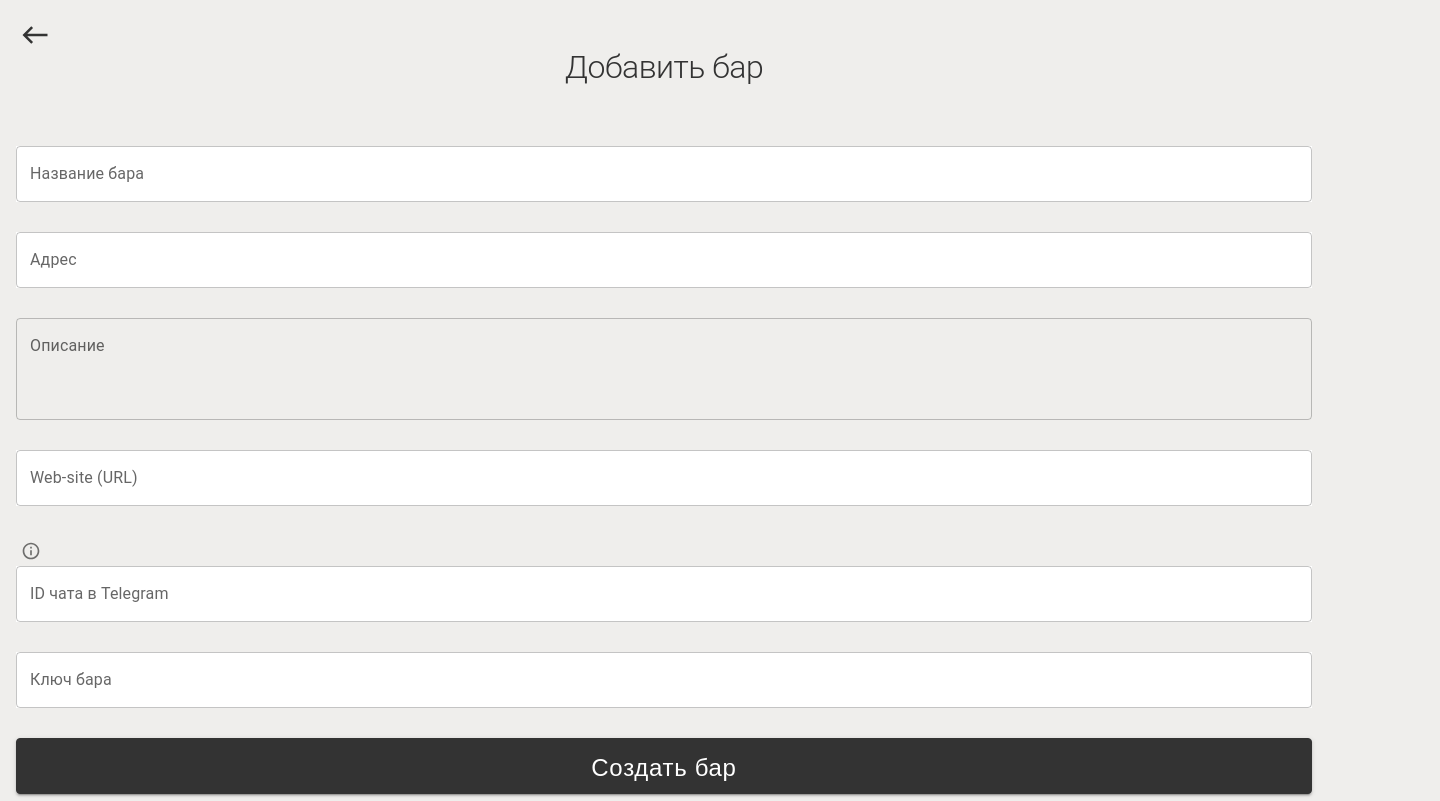
Scenario: AdminRegisterBarForm › успешный POST и сообщение ok
Type "Бар 1" into the field labelled "Название бара" at (664, 174), box [16,146,1312,202]
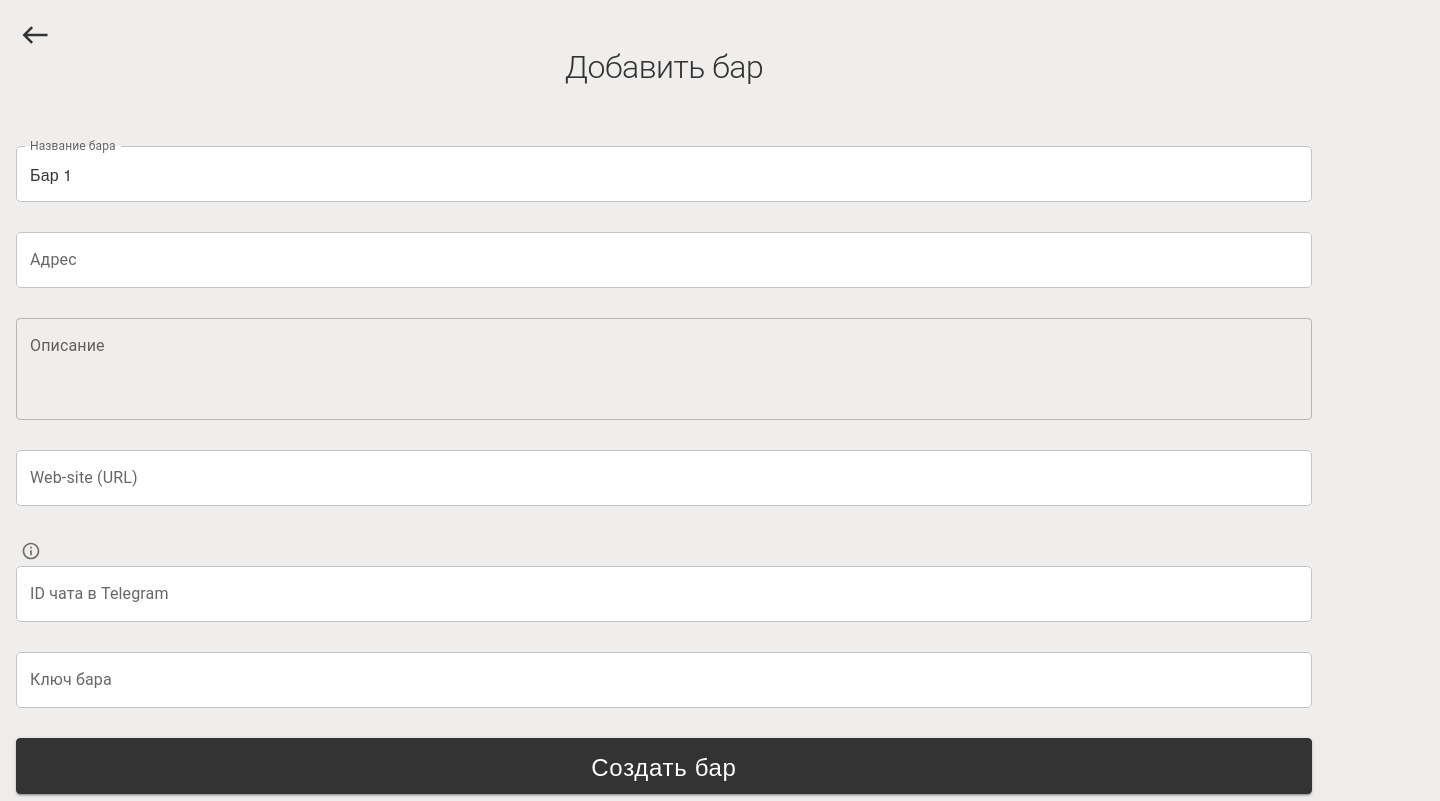
Type "key123" into the password field labelled "Ключ бара" at (664, 680), box [16,652,1312,708]
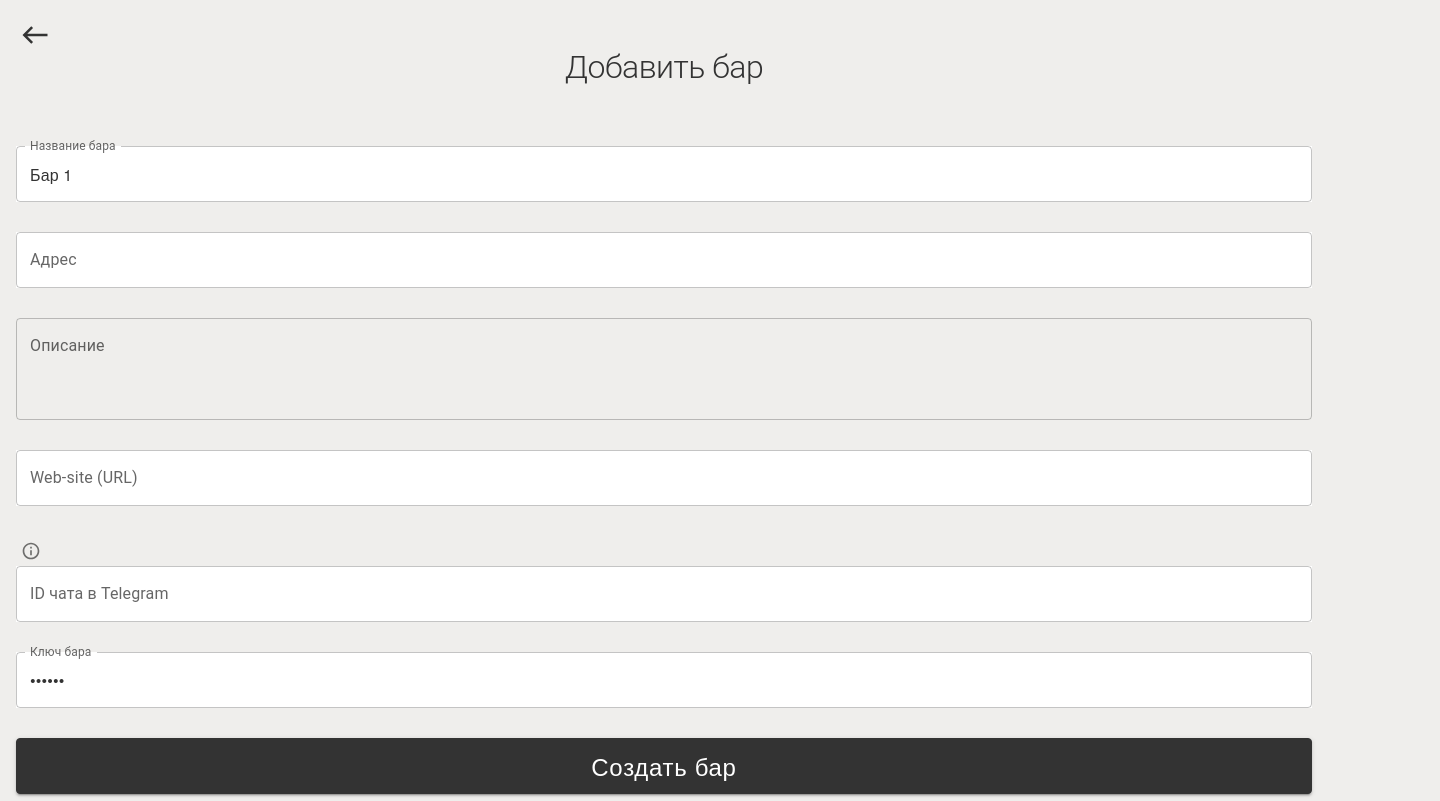
Type "777" into the field labelled "ID чата в Telegram" at (664, 594), box [16,566,1312,622]
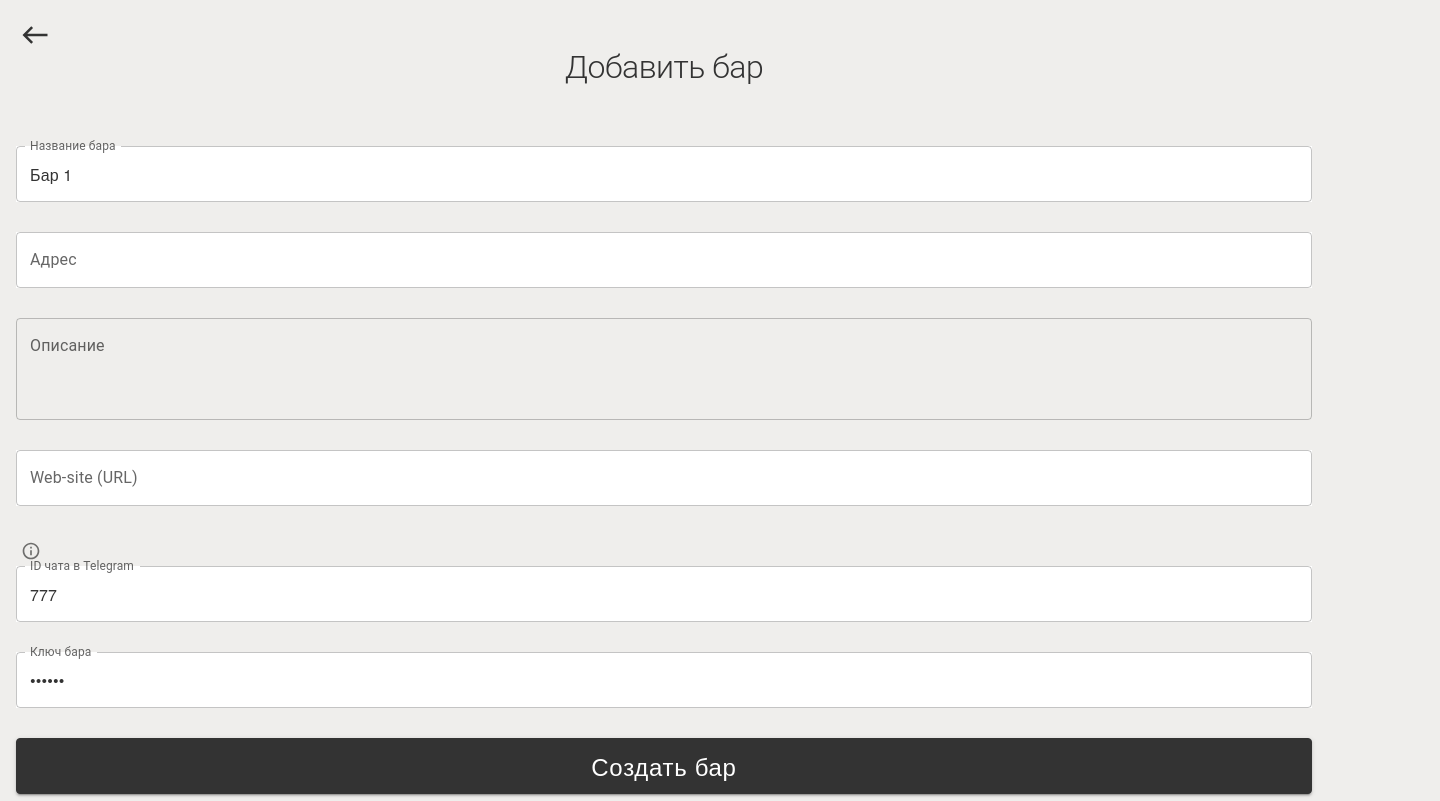
Click the button "Создать бар" at (664, 766), box [16,738,1312,794]
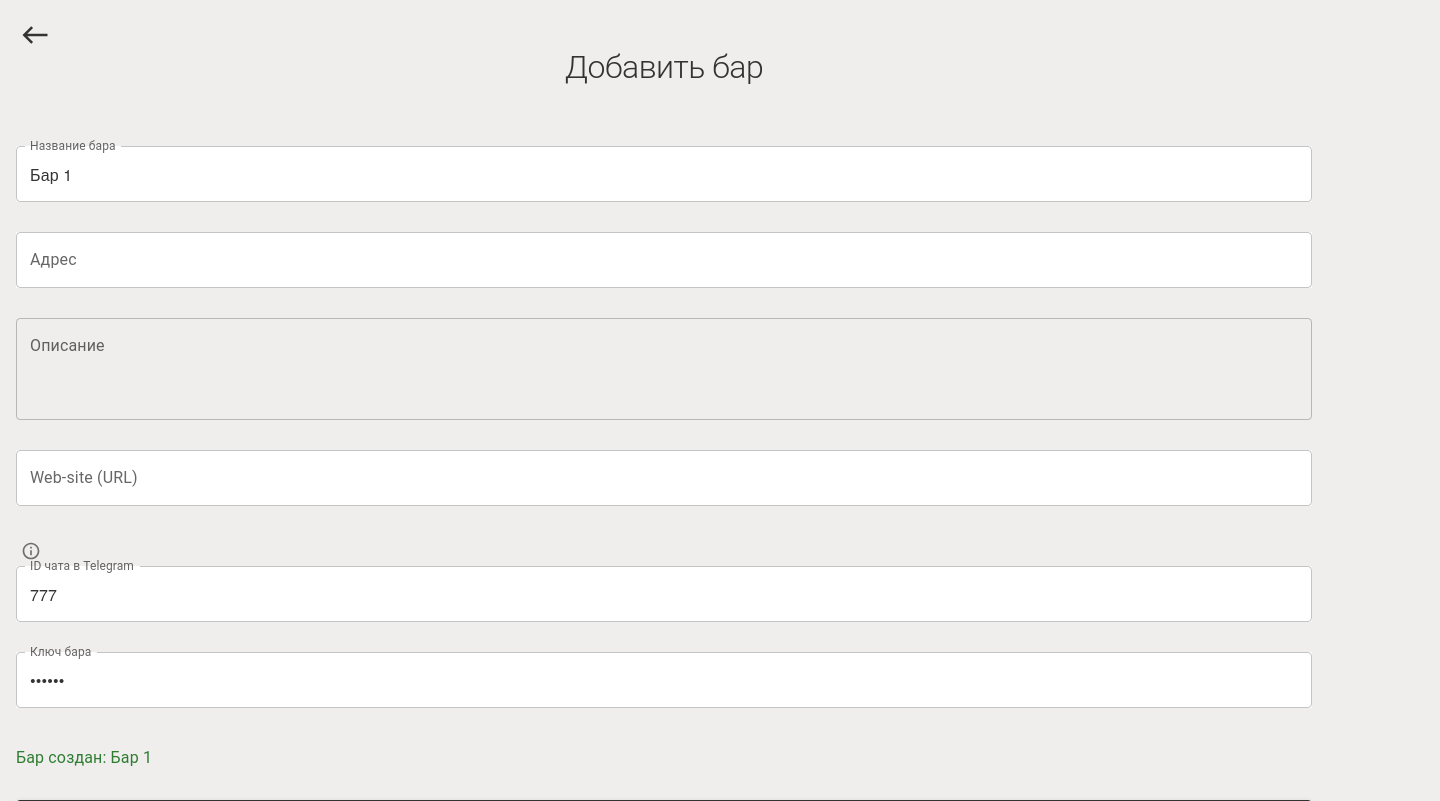
Expected: the text "Бар создан: Бар 1" is shown, [16,748,152,767]
